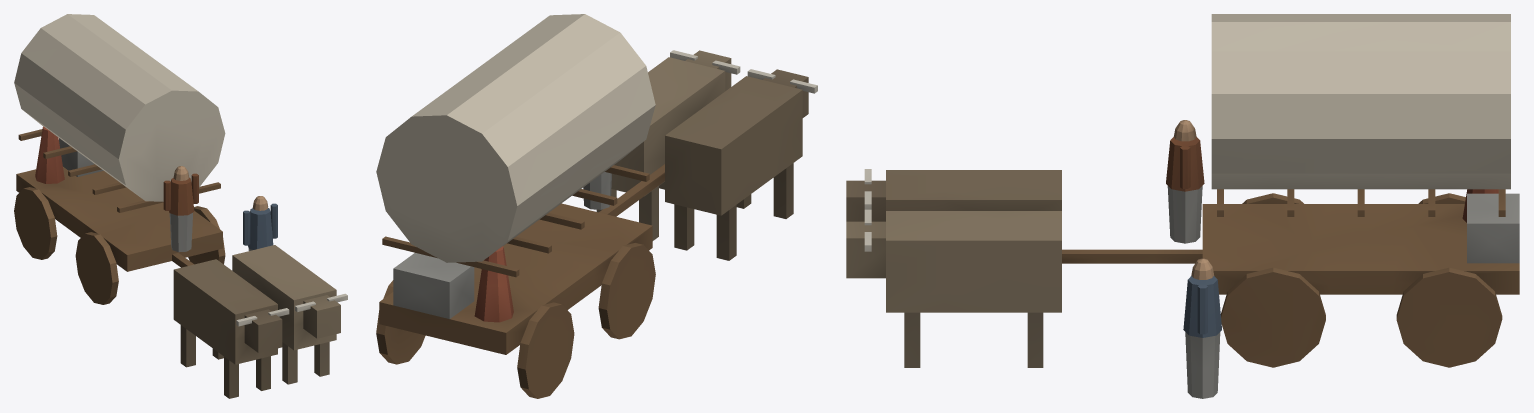
The model's file is wagon.glb.
The picture shows the model from 3 angles, left to right: view 1: azimuth 30°, elevation 25°; view 2: azimuth 150°, elevation 25°; view 3: azimuth 270°, elevation 25°; orthographic projection. The views are drawn at different scales.
Parts seen in each view (by area): view 1: base; view 2: base; view 3: base.
Part boxes in pixels (x1=…): base: x1=14, y1=14, x2=347, y2=398; base: x1=376, y1=14, x2=817, y2=398; base: x1=846, y1=14, x2=1519, y2=398.
Size of the model in its own units: 2.97 by 3.9 by 7.65.
